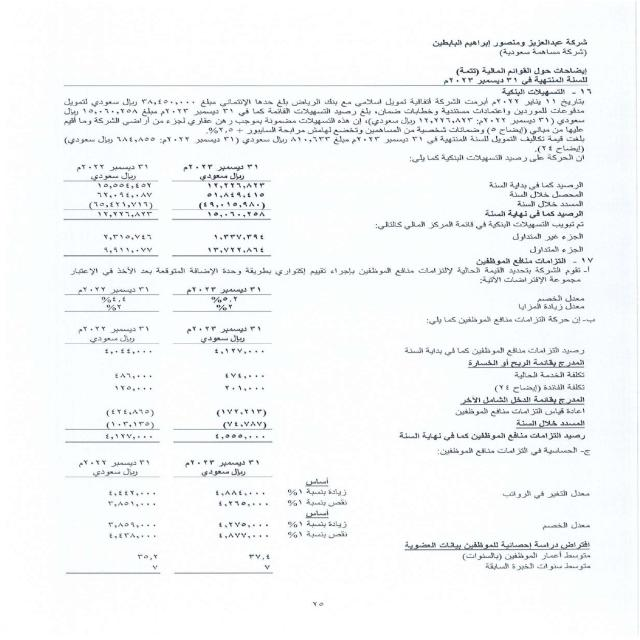notes: (443, 66, 588, 77)
table: (31, 456, 342, 586), (52, 325, 266, 453), (44, 162, 290, 222), (49, 282, 283, 319), (56, 232, 275, 264)
